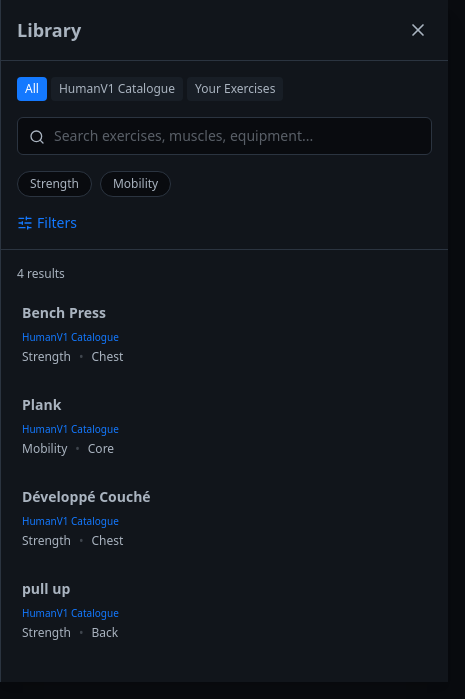
it: empty-state recovery
Type "NonExistentExercisexyz" into the field with placeholder "Search exercises, muscles, equipment...". click: (224, 136)
box: top-left (17, 117), bottom-right (432, 155)
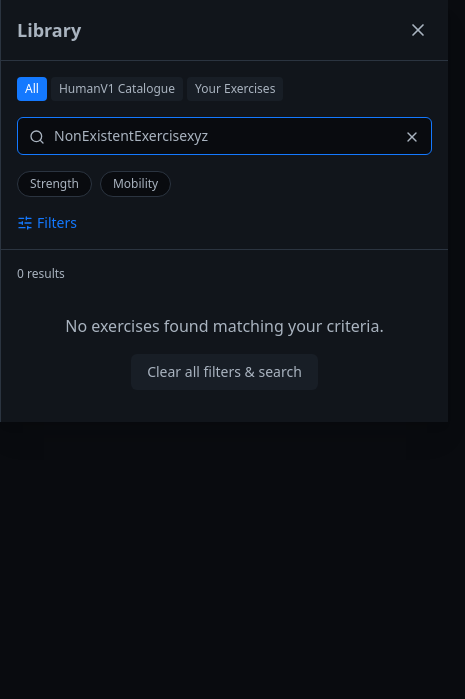
Expected: the text "No exercises found matching your criteria." is shown, top-left (65, 315), bottom-right (384, 337)
Expected: the button "Clear all filters & search" is shown
Click the button "Clear all filters & search". click: (225, 372)
box: top-left (131, 354), bottom-right (318, 390)
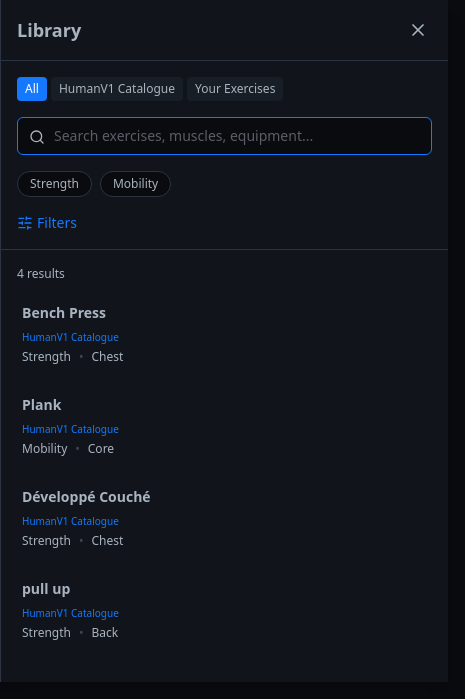
Expected: the text "Bench Press" is shown, top-left (22, 303), bottom-right (106, 322)
Expected: the field with placeholder "Search exercises, muscles, equipment..." is empty, top-left (17, 117), bottom-right (432, 155)
